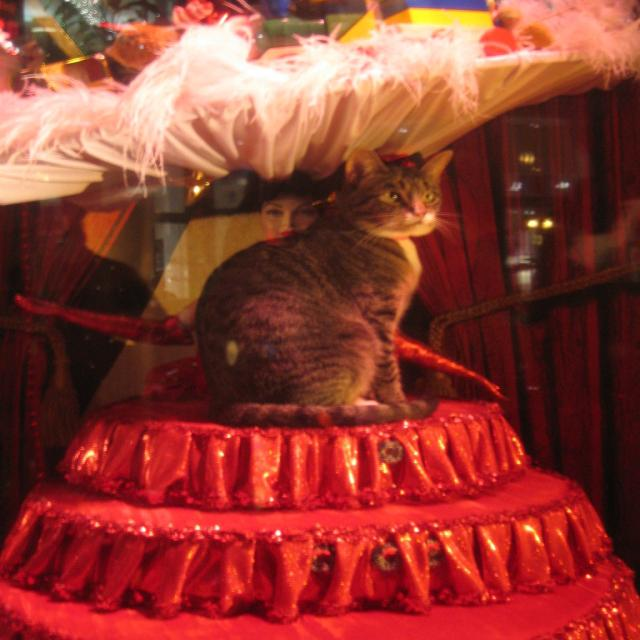Cat: (194, 147, 492, 412)
